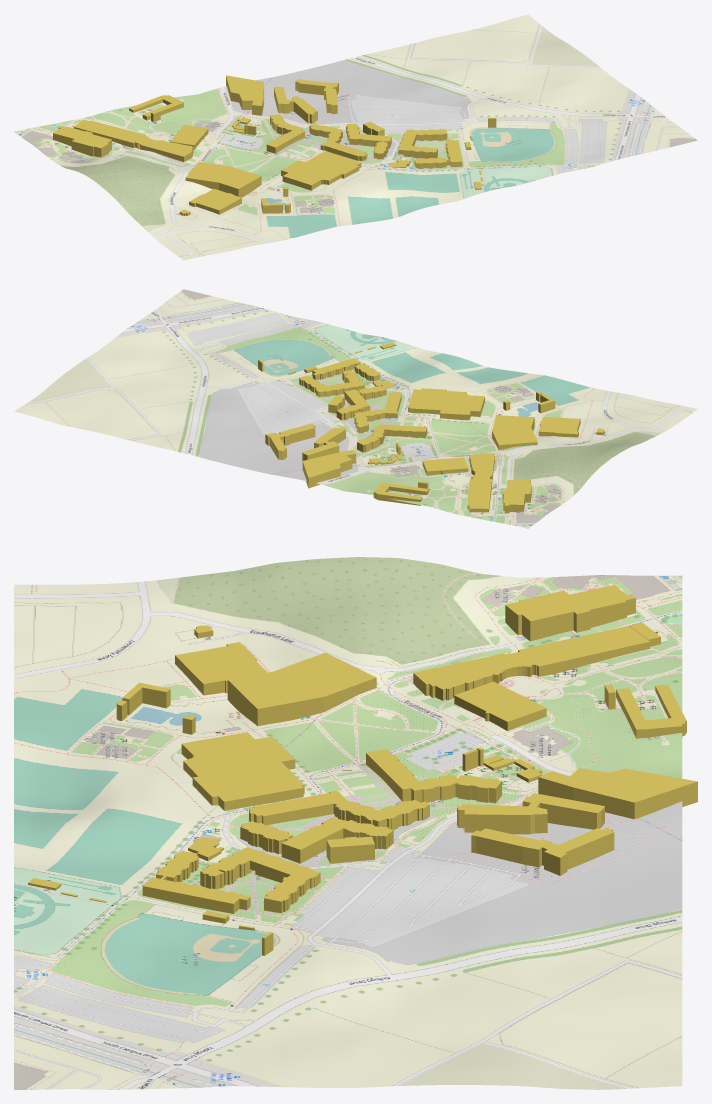
The model's file is suites+bric.gltf.
3 renders of one model, top to bottom at view 1: azimuth 30°, elevation 25°; view 2: azimuth 150°, elevation 25°; view 3: azimuth 270°, elevation 25°, orthographic. The views are drawn at different scales.
Visible parts, largest first — view 1: EXPORT_OSM_MAPNIK_WM, kellogg gym, Cube, bsc, drama deparment, centerpointe, montanas, bonita, darlene may gym, estrellas, sicomoro, sol (+4 smaller); view 2: EXPORT_OSM_MAPNIK_WM, kellogg gym, Cube, centerpointe, bsc, estrellas, montanas, secoya, sol, drama deparment, luna, bonita (+4 smaller); view 3: EXPORT_OSM_MAPNIK_WM, kellogg gym, bsc, Cube, centerpointe, drama deparment, sicomoro, secoya, bonita, montanas, sol, estrellas (+7 smaller).
Boxes of the visible parts, bbox=[...] form: EXPORT_OSM_MAPNIK_WM: bbox=[14, 14, 697, 260]; kellogg gym: bbox=[281, 151, 361, 190]; Cube: bbox=[185, 162, 261, 197]; bsc: bbox=[80, 120, 193, 161]; drama deparment: bbox=[53, 126, 111, 157]; centerpointe: bbox=[226, 75, 263, 115]; montanas: bbox=[398, 129, 447, 158]; bonita: bbox=[309, 124, 367, 160]; darlene may gym: bbox=[189, 189, 241, 214]; estrellas: bbox=[266, 114, 304, 153]; sicomoro: bbox=[274, 86, 317, 123]; sol: bbox=[346, 124, 391, 159]; EXPORT_OSM_MAPNIK_WM: bbox=[14, 289, 697, 528]; kellogg gym: bbox=[408, 388, 484, 420]; Cube: bbox=[492, 415, 537, 450]; centerpointe: bbox=[302, 449, 356, 488]; bsc: bbox=[467, 453, 494, 509]; estrellas: bbox=[357, 424, 427, 452]; montanas: bbox=[299, 370, 364, 396]; secoya: bbox=[265, 423, 315, 459]; sol: bbox=[336, 386, 386, 420]; drama deparment: bbox=[502, 479, 531, 513]; luna: bbox=[312, 358, 380, 381]; bonita: bbox=[354, 391, 401, 433]; EXPORT_OSM_MAPNIK_WM: bbox=[14, 557, 682, 1089]; kellogg gym: bbox=[181, 732, 304, 810]; bsc: bbox=[413, 626, 649, 700]; Cube: bbox=[227, 652, 376, 726]; centerpointe: bbox=[538, 768, 697, 819]; drama deparment: bbox=[505, 585, 635, 641]; sicomoro: bbox=[457, 793, 604, 834]; secoya: bbox=[471, 827, 614, 875]; bonita: bbox=[249, 790, 429, 829]; montanas: bbox=[200, 847, 320, 913]; sol: bbox=[240, 817, 393, 863]; estrellas: bbox=[366, 749, 501, 803].
Bounding box in the file's own units: 974 × 42.96 × 569.
Materials: 2 (1 with a texture image).
